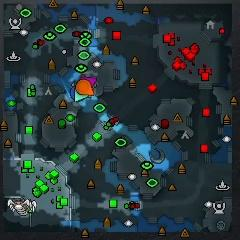p1: (70, 86, 76, 100)
p2: (74, 88, 89, 103)
p3: (80, 77, 97, 86)
p5: (76, 80, 94, 95)
